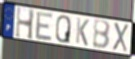B: (92, 19, 112, 51)
E: (34, 11, 54, 42)
H: (14, 5, 36, 42)
K: (75, 17, 90, 48)
Q: (55, 14, 71, 45)
X: (112, 21, 129, 54)
